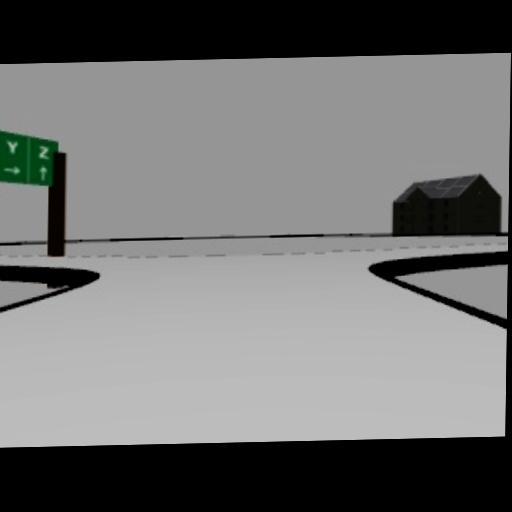Right: (2, 165, 21, 176)
Straight: (38, 166, 49, 182)
Y: (7, 140, 19, 155)
Z: (38, 144, 50, 160)
